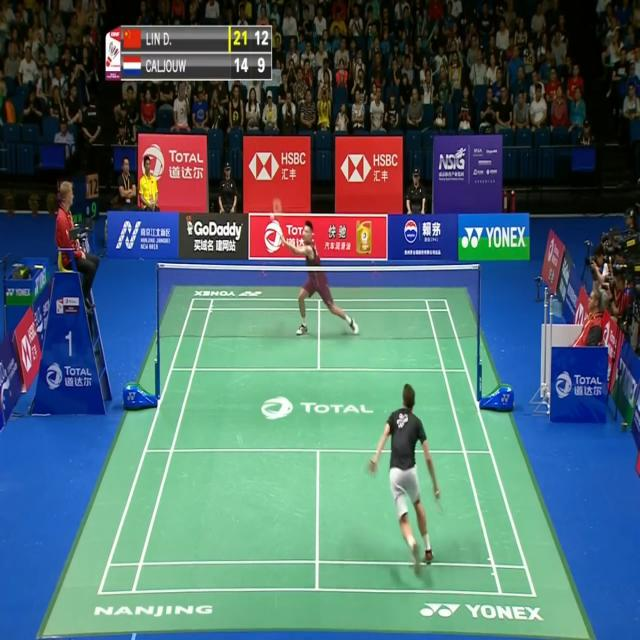Player1: (366, 376, 448, 578)
Player2: (266, 199, 364, 343)
